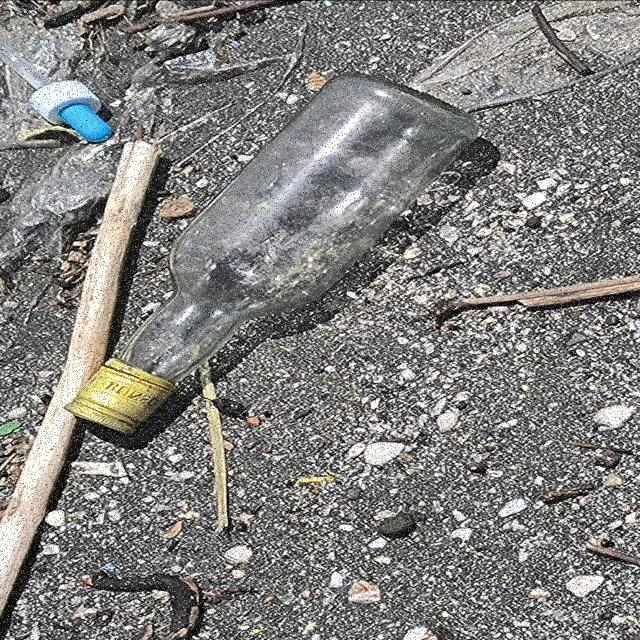glass_waste: (64, 72, 484, 436)
